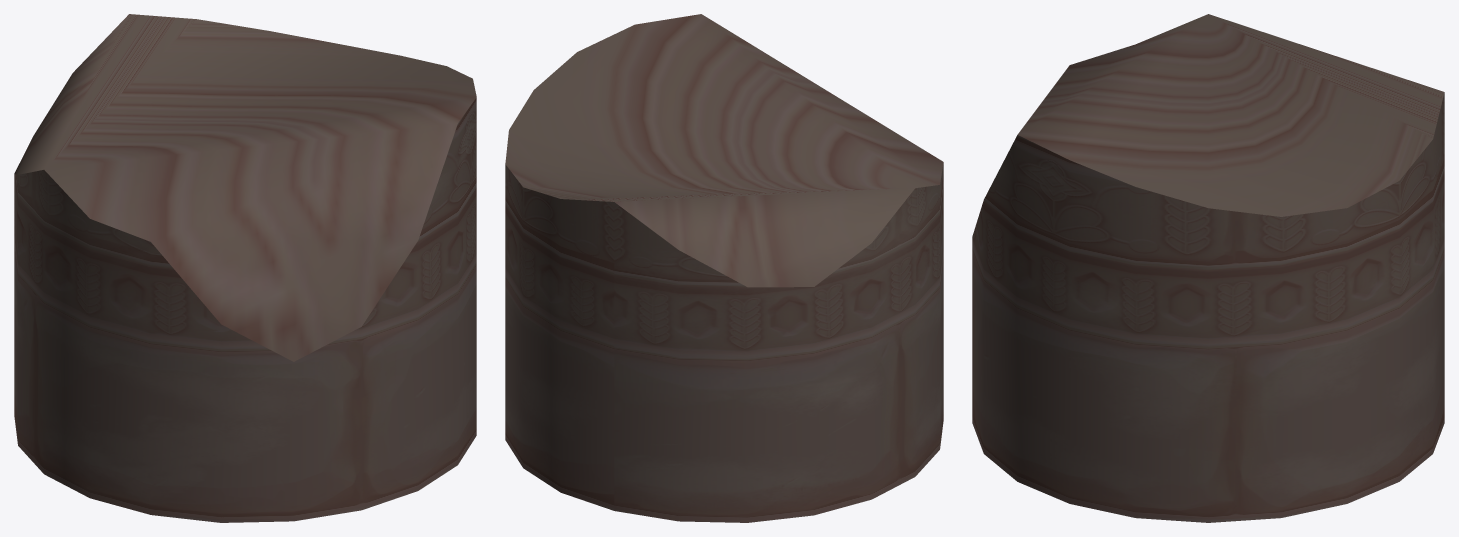
The model's file is PillarDamaged5_4.fbx.
The picture shows the model from 3 angles, left to right: view 1: azimuth 30°, elevation 25°; view 2: azimuth 150°, elevation 25°; view 3: azimuth 270°, elevation 25°; orthographic projection. The views are drawn at different scales.
Parts seen in each view (by area): view 1: polySurface210; view 2: polySurface210; view 3: polySurface210.
Part boxes in pixels (x1=…): polySurface210: x1=14, y1=14, x2=476, y2=522; polySurface210: x1=505, y1=14, x2=943, y2=522; polySurface210: x1=972, y1=14, x2=1444, y2=522.
Size of the model in its own units: 22.73 by 18.43 by 22.73.
